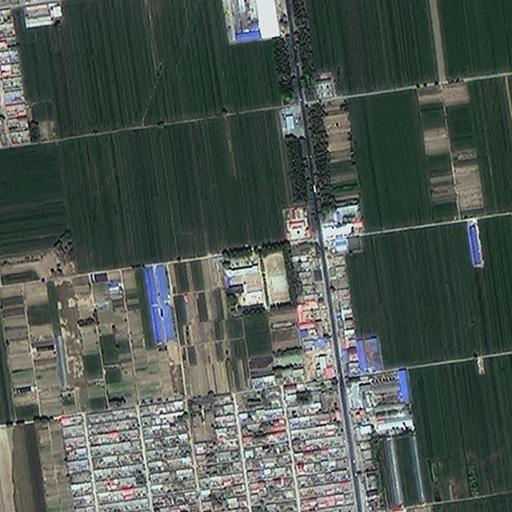school: (222, 242, 296, 318)
